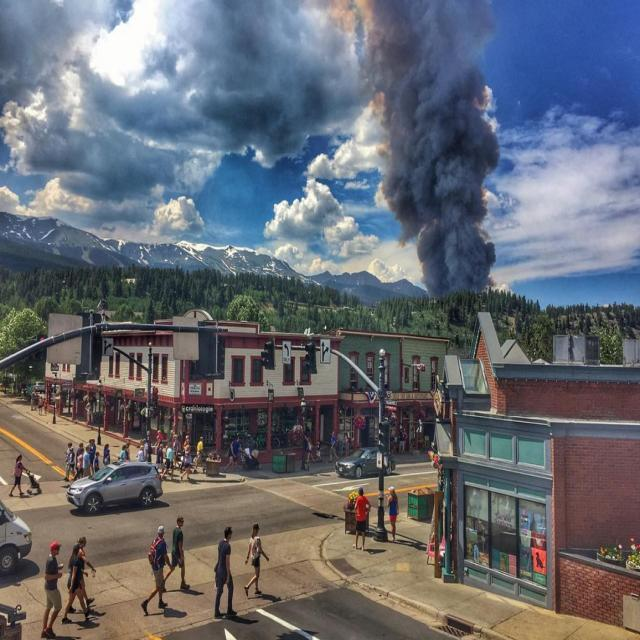Fire: (624, 594, 640, 634)
Smoke: (350, 20, 532, 275), (52, 15, 376, 152)
